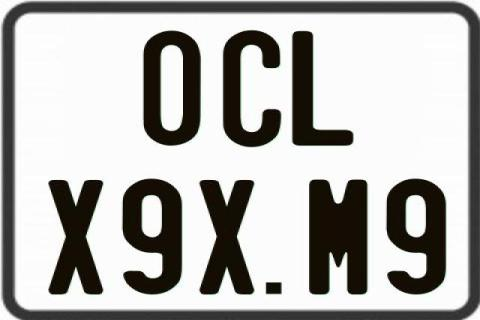0: (122, 177, 188, 293), (383, 178, 443, 294), (143, 28, 201, 145)
C: (221, 30, 281, 152)
L: (291, 30, 355, 144)
M: (308, 177, 367, 293)
X: (198, 178, 257, 294), (48, 179, 105, 293)
